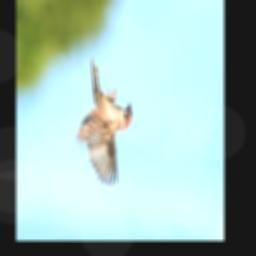Sparrow: (76, 57, 132, 185)
